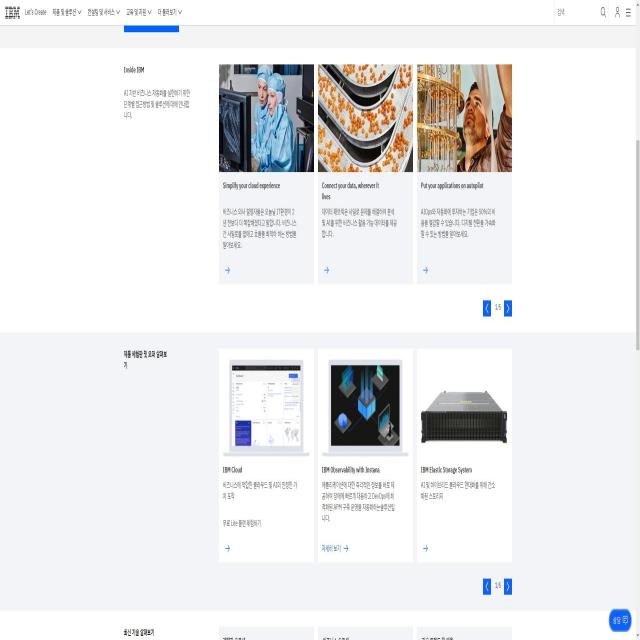button: (609, 608, 632, 633)
select: (51, 4, 83, 20), (86, 5, 121, 19), (125, 5, 153, 18), (157, 5, 183, 19)
